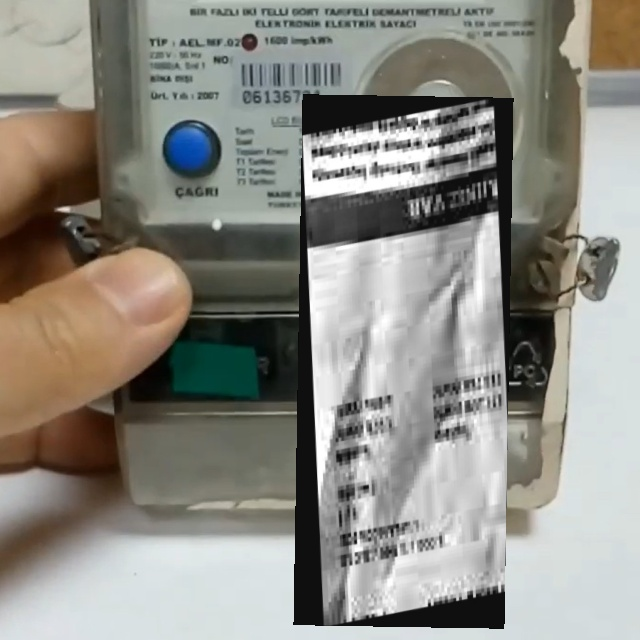electricity-bill: (292, 94, 513, 629)
